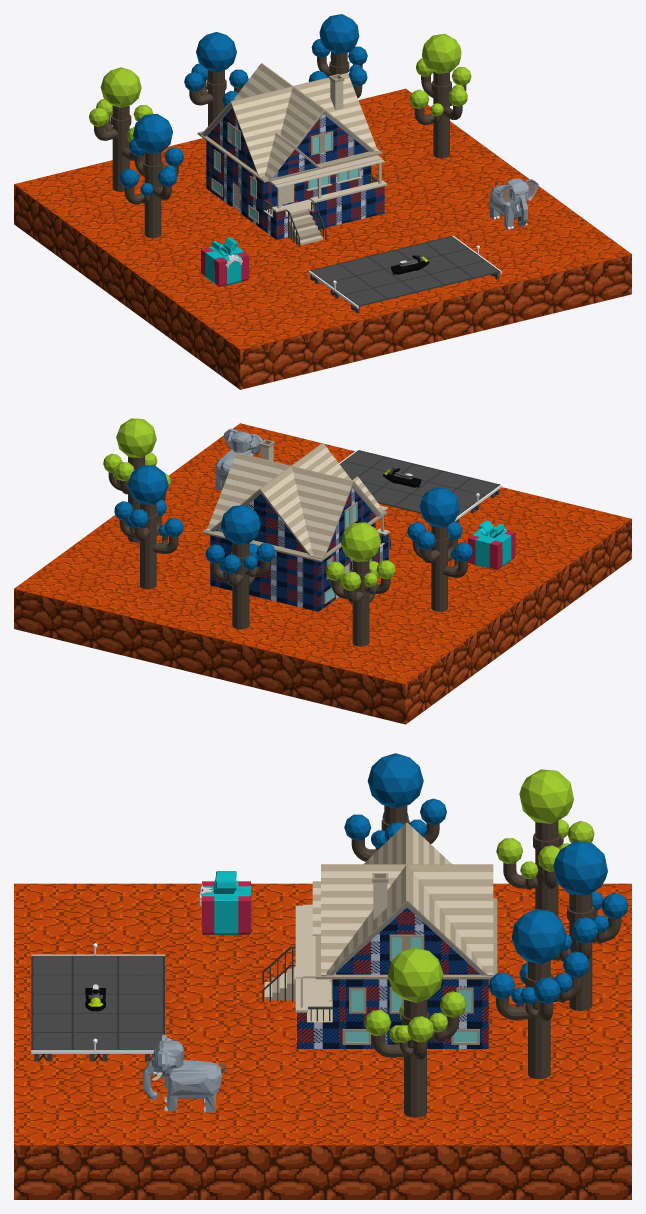
The picture shows the model from 3 angles, top to bottom: view 1: azimuth 30°, elevation 25°; view 2: azimuth 150°, elevation 25°; view 3: azimuth 270°, elevation 25°; orthographic projection. The views are drawn at different scales.
Visible parts, largest first — view 1: Cube.001, Cube.171, OBJRANDOM_GIANT_PRESENT, ANIMAL_ELEFANTE; view 2: Cube.001, Cube.171, OBJRANDOM_GIANT_PRESENT, ANIMAL_ELEFANTE, VEHICLES_WATERBIKE; view 3: Cube.001, Cube.171, ANIMAL_ELEFANTE, OBJRANDOM_GIANT_PRESENT.
Boxes of the visible parts, x1,y1,x2,y2 form: Cube.001: (14,14,631,389); Cube.171: (197,63,387,246); OBJRANDOM_GIANT_PRESENT: (201,237,248,286); ANIMAL_ELEFANTE: (489,178,538,229); Cube.001: (14,418,631,724); Cube.171: (202,439,390,611); OBJRANDOM_GIANT_PRESENT: (467,520,515,569); ANIMAL_ELEFANTE: (215,428,262,490); VEHICLES_WATERBIKE: (383,468,421,487); Cube.001: (14,753,631,1199); Cube.171: (262,823,497,1048); ANIMAL_ELEFANTE: (142,1034,225,1112); OBJRANDOM_GIANT_PRESENT: (199,871,251,934).
Bounding box in the file's own units: 4000 × 1765 × 4000.
Materials: 27 (5 with a texture image).
